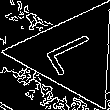L_NE: (38, 28, 105, 80)
